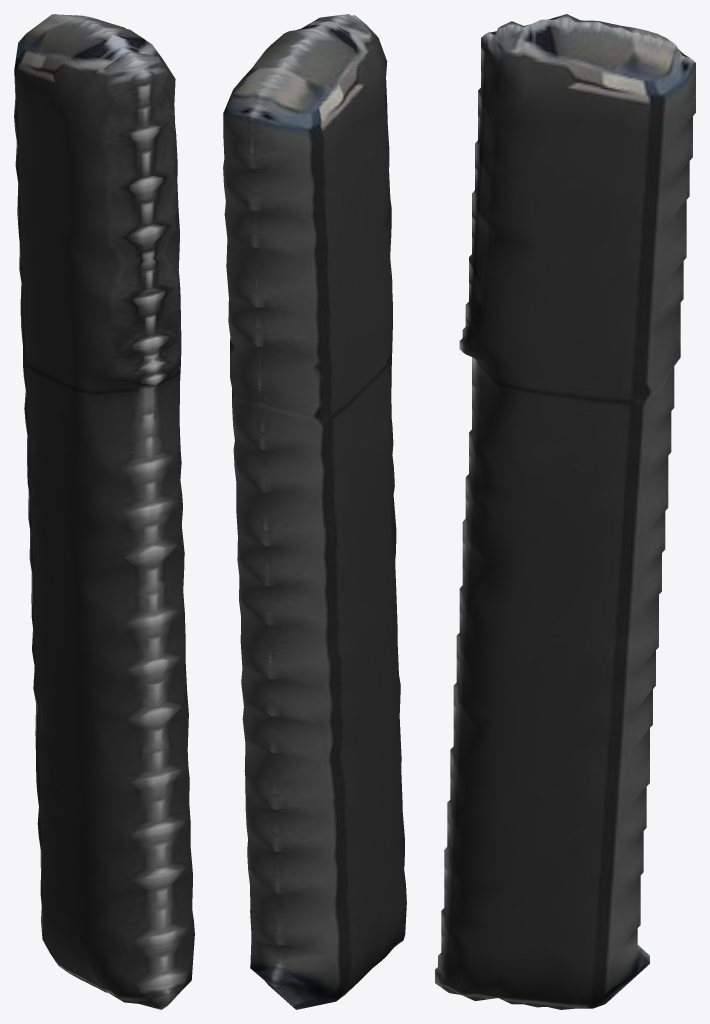
The model's file is mitraillette-piece1.glb.
The picture shows the model from 3 angles, left to right: view 1: azimuth 30°, elevation 25°; view 2: azimuth 150°, elevation 25°; view 3: azimuth 270°, elevation 25°; orthographic projection. The views are drawn at different scales.
Parts seen in each view (by area): view 1: mitraillette-piece1; view 2: mitraillette-piece1; view 3: mitraillette-piece1.
Part boxes in pixels (box(x1,y1,x2,y2)): mitraillette-piece1: box(14, 14, 194, 1009); mitraillette-piece1: box(223, 14, 406, 1009); mitraillette-piece1: box(435, 14, 695, 1009).
Bounding box in the file's own units: 0.024 × 0.2163 × 0.0519.
1 material, 1 textured.
